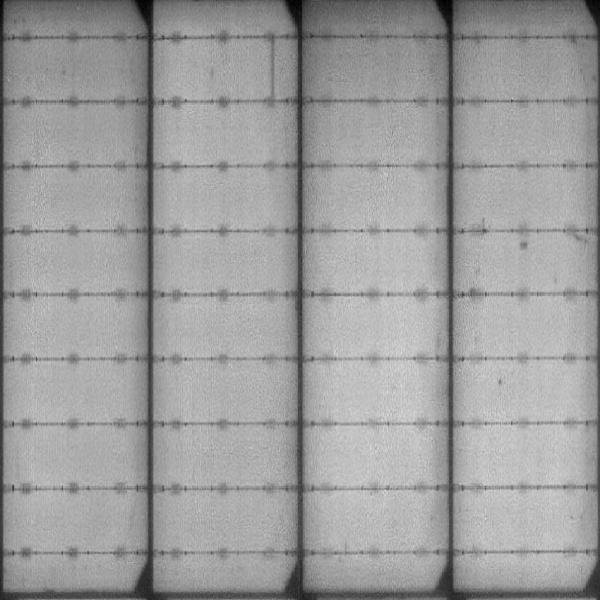scratch: (264, 39, 282, 96)
